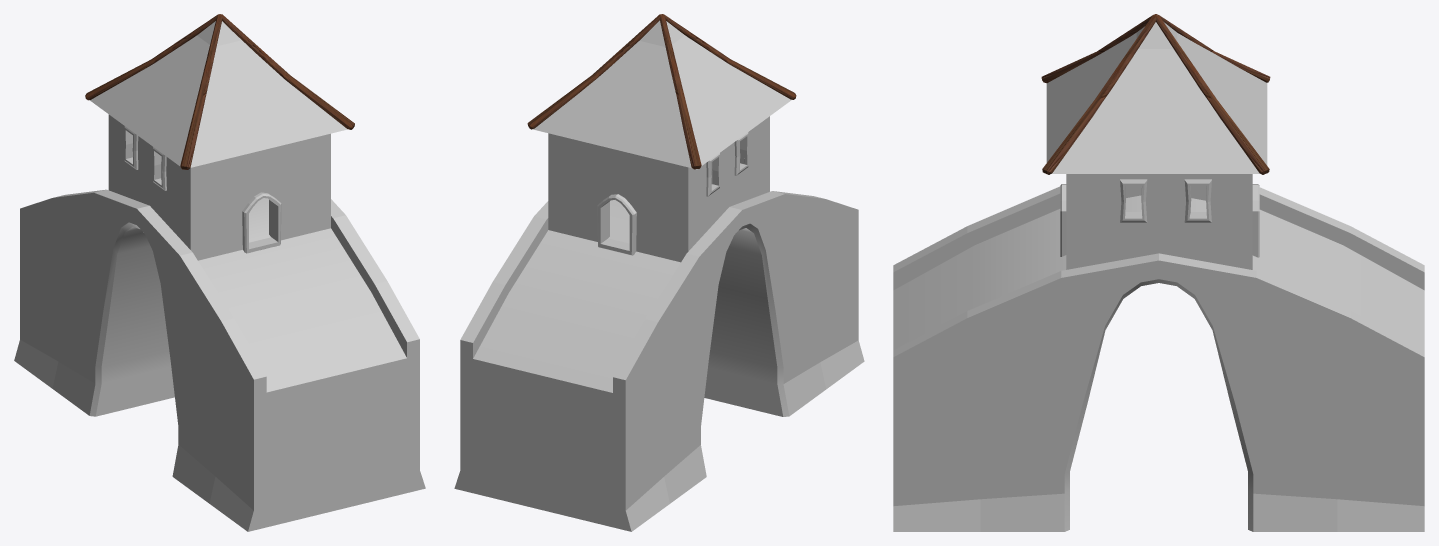
The model's file is WallBrige.fbx.
3 renders of one model, left to right at view 1: azimuth 30°, elevation 25°; view 2: azimuth 150°, elevation 25°; view 3: azimuth 270°, elevation 25°, orthographic. The views are drawn at different scales.
Parts seen in each view (by area): view 1: WallBrige, WallBrigeRoof; view 2: WallBrige, WallBrigeRoof; view 3: WallBrige, WallBrigeRoof.
Boxes of the visible parts, x1=… form: WallBrige: x1=14, y1=114, x2=425, y2=531; WallBrigeRoof: x1=85, y1=14, x2=354, y2=169; WallBrige: x1=454, y1=116, x2=864, y2=531; WallBrigeRoof: x1=527, y1=14, x2=796, y2=169; WallBrige: x1=893, y1=174, x2=1424, y2=531; WallBrigeRoof: x1=1041, y1=14, x2=1270, y2=174.
Bounding box in the file's own units: 1100 × 2431 × 2505.
